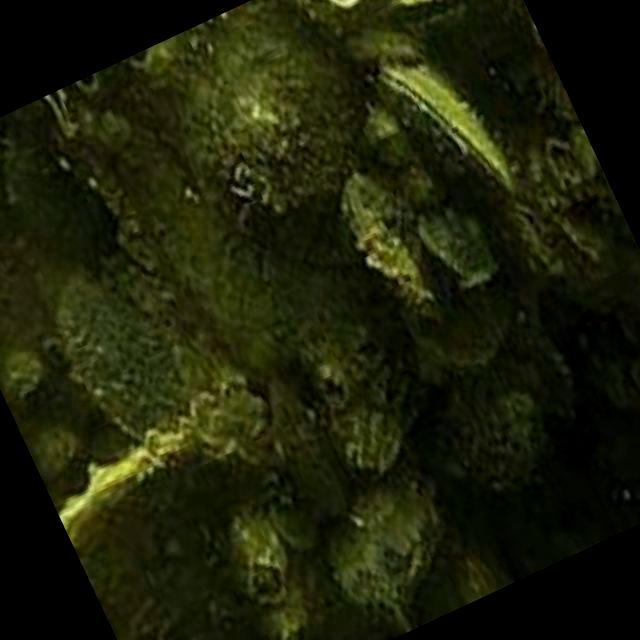Oyster-Closed: (55, 420, 266, 582), (426, 325, 573, 478), (56, 280, 183, 433), (375, 65, 505, 213), (329, 458, 432, 602)
